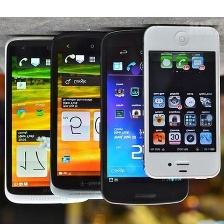phone: (97, 25, 190, 208), (2, 33, 95, 207), (46, 28, 134, 202), (140, 22, 222, 182)
